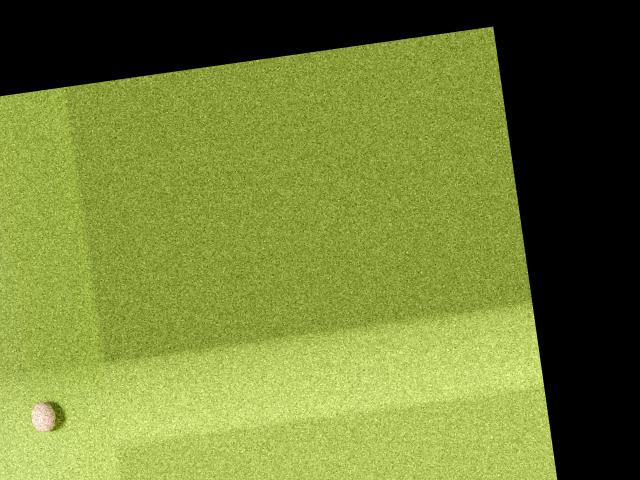egg: (30, 398, 57, 433)
